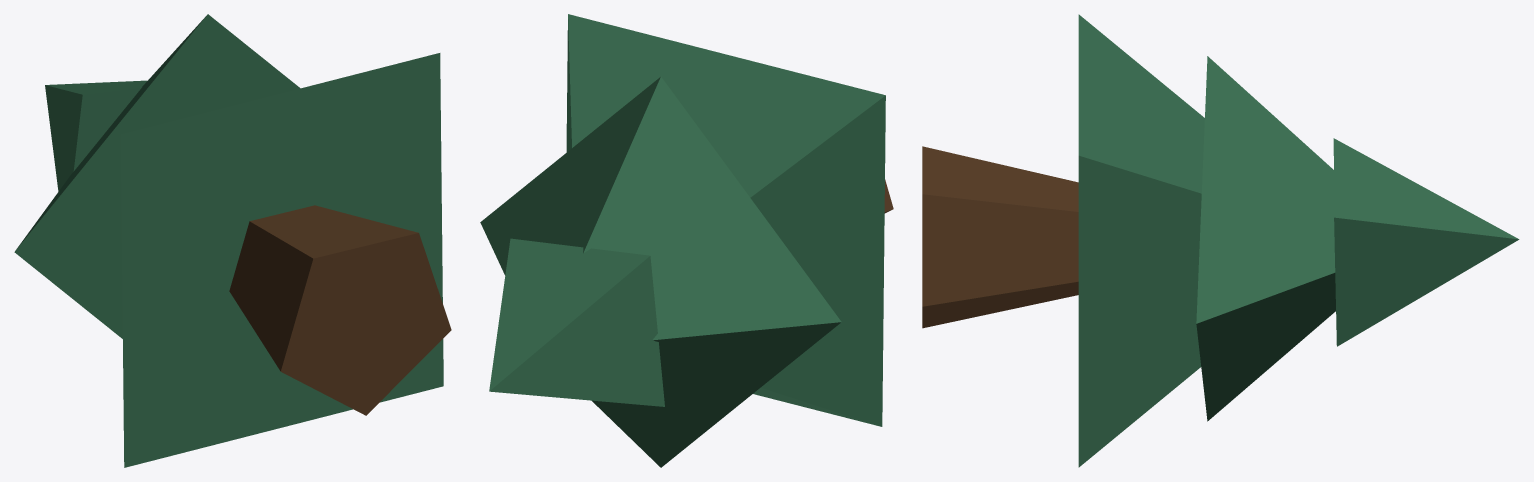
Rendered from tree2.fbx.
3 renders of one model, left to right at view 1: azimuth 30°, elevation 25°; view 2: azimuth 150°, elevation 25°; view 3: azimuth 270°, elevation 25°, orthographic. The views are drawn at different scales.
Parts seen in each view (by area): view 1: Cone, Tree, Cone.001, Cone.002; view 2: Cone.001, Cone, Cone.002; view 3: Cone, Cone.001, Tree, Cone.002.
Part boxes in pixels (<box>): Cone: <box>120,53,443,467</box>; Tree: <box>229,205,451,415</box>; Cone.001: <box>14,14,300,338</box>; Cone.002: <box>45,80,147,191</box>; Cone.001: <box>480,77,841,467</box>; Cone: <box>566,14,885,426</box>; Cone.002: <box>489,238,664,406</box>; Cone: <box>1078,14,1204,467</box>; Cone.001: <box>1196,56,1340,421</box>; Tree: <box>922,146,1078,328</box>; Cone.002: <box>1333,138,1519,346</box>.
Size of the model in its own units: 1.66 by 1.66 by 2.46.
